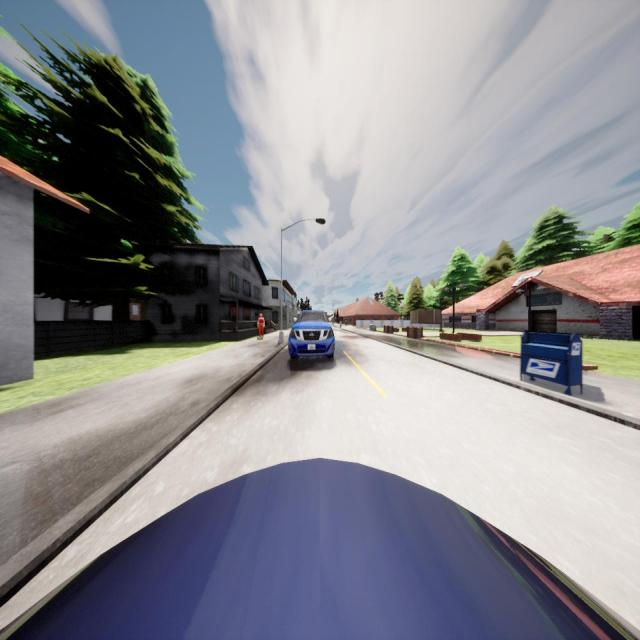Pedestrian: (257, 314, 265, 338)
Vehicle: (1, 459, 640, 639), (288, 310, 334, 359)
